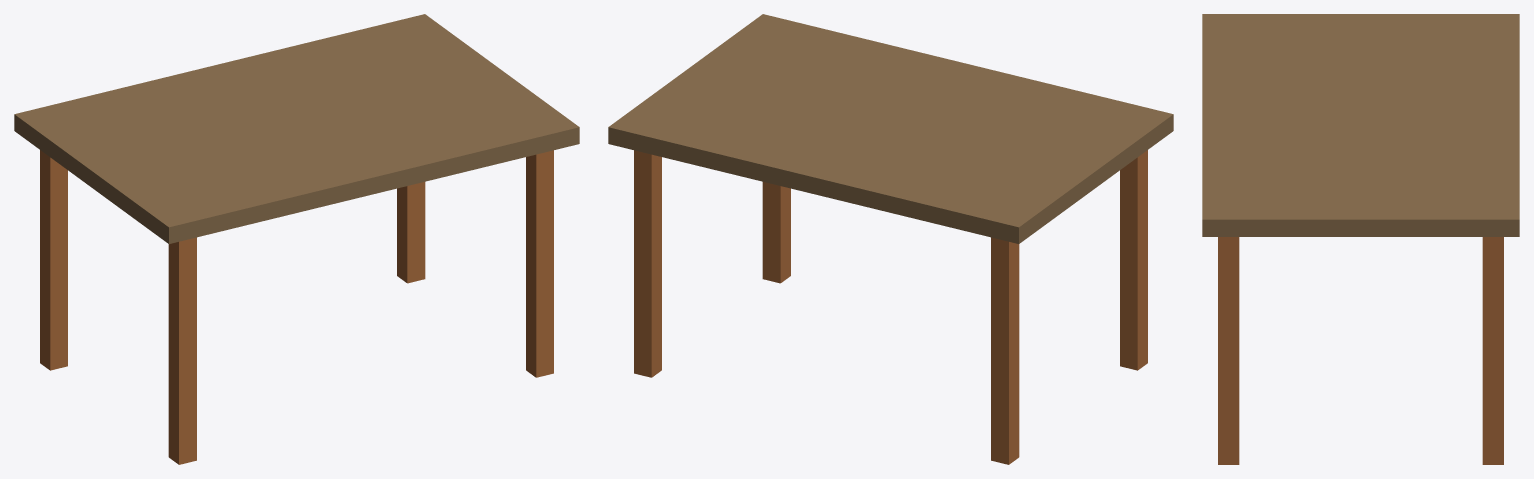
3 views of the same model, side by side, from view 1: azimuth 30°, elevation 25°; view 2: azimuth 150°, elevation 25°; view 3: azimuth 270°, elevation 25° (orthographic). The views are drawn at different scales.
Visible parts, largest first — view 1: root_pal_khakiSeam, root_pal_woodWarm; view 2: root_pal_khakiSeam, root_pal_woodWarm; view 3: root_pal_khakiSeam, root_pal_woodWarm.
Boxes of the visible parts, x1=… form: root_pal_khakiSeam: x1=14, y1=14, x2=579, y2=243; root_pal_woodWarm: x1=40, y1=150, x2=553, y2=464; root_pal_khakiSeam: x1=608, y1=14, x2=1173, y2=243; root_pal_woodWarm: x1=634, y1=150, x2=1147, y2=464; root_pal_khakiSeam: x1=1202, y1=14, x2=1519, y2=236; root_pal_woodWarm: x1=1218, y1=237, x2=1503, y2=464.
Bounding box in the file's own units: 4.6 × 2.65 × 3.
